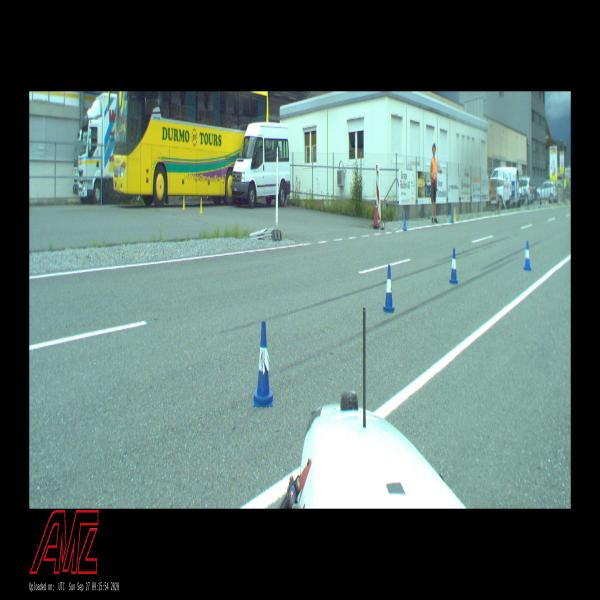blue_cone: (254, 322, 273, 408), (384, 265, 394, 313), (450, 248, 458, 284), (524, 240, 531, 270), (402, 211, 407, 230), (450, 207, 453, 222)
yellow_cone: (200, 198, 203, 214), (182, 195, 185, 210), (453, 207, 456, 221)
